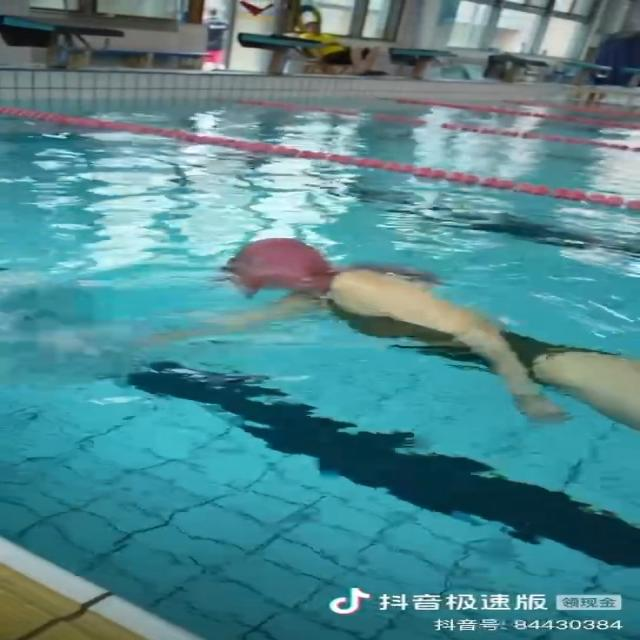Drowning: (170, 239, 640, 436)
